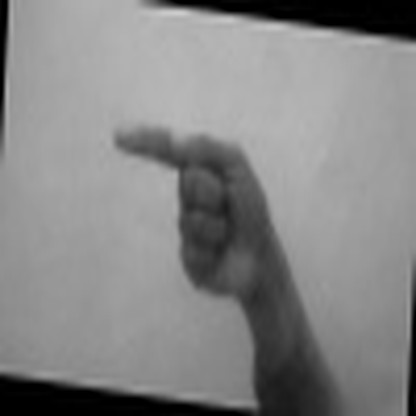g: (97, 112, 300, 301)
